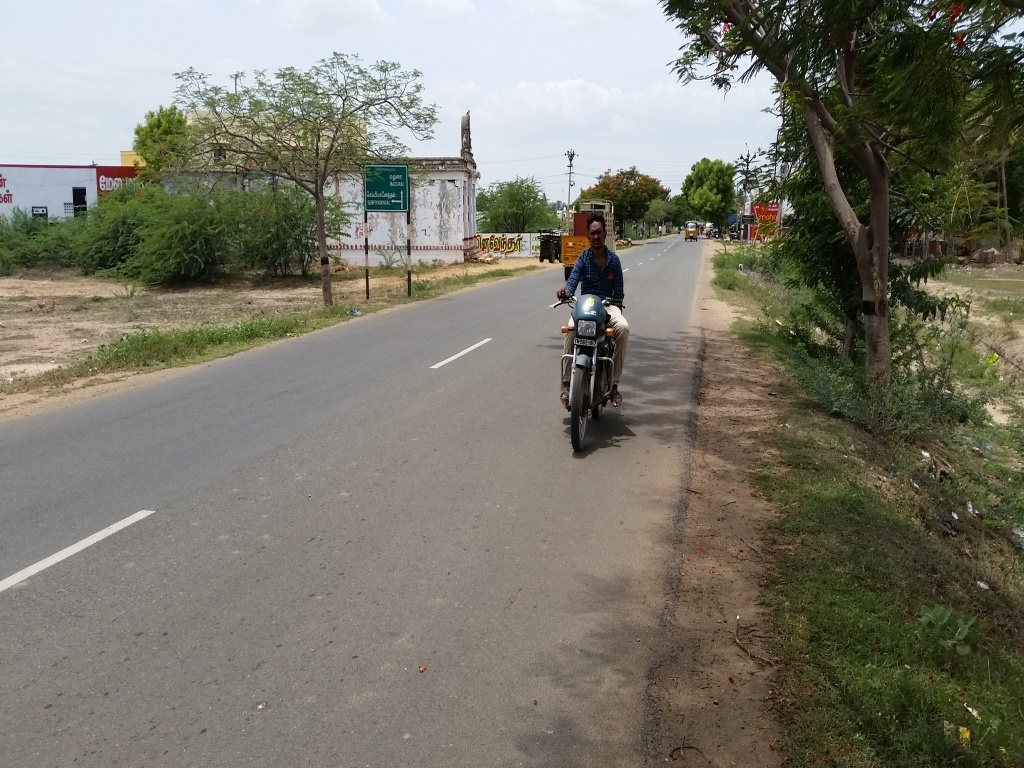biker: (526, 188, 658, 472)
nohelmet: (581, 205, 618, 266)
